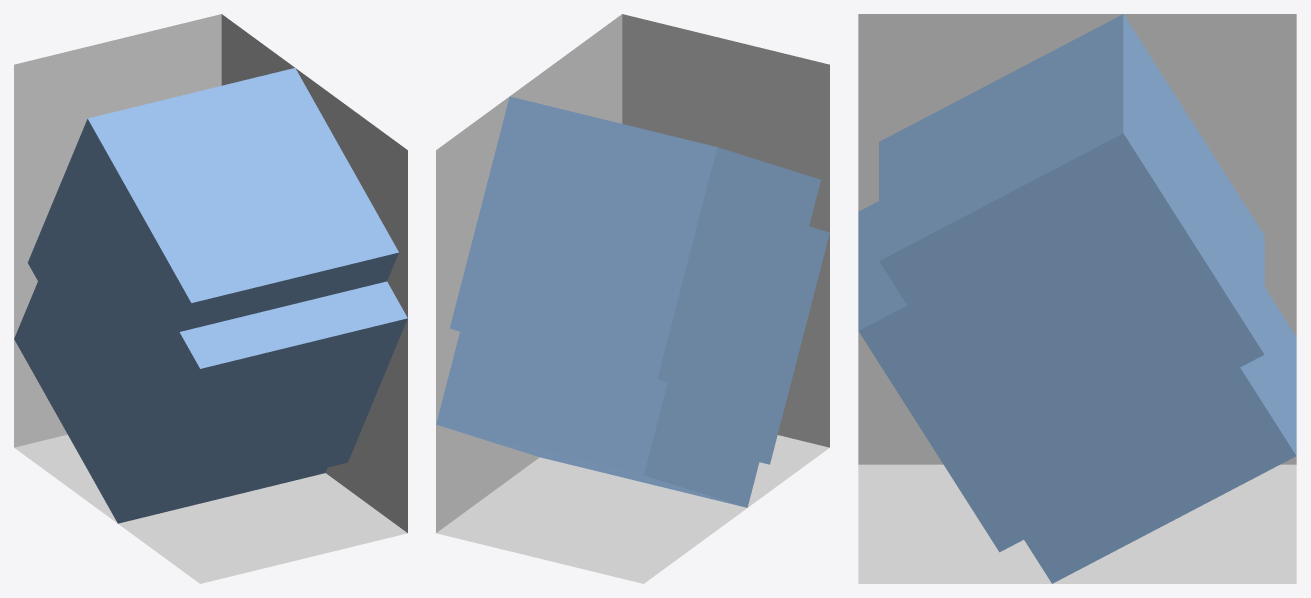
Rendered from processed_glb.glb.
3 views of the same model, side by side, from view 1: azimuth 30°, elevation 25°; view 2: azimuth 150°, elevation 25°; view 3: azimuth 270°, elevation 25° (orthographic). The views are drawn at different scales.
Visible parts, largest first — view 1: SM_test_blender_tank_barrel_LOD0, COL_test_blender_tank, SM_test_blender_tank_turret_LOD0, SM_test_blender_tank_hull_LOD0; view 2: SM_test_blender_tank_barrel_LOD0, COL_test_blender_tank, SM_test_blender_tank_hull_LOD0, SM_test_blender_tank_turret_LOD0; view 3: SM_test_blender_tank_barrel_LOD0, COL_test_blender_tank, SM_test_blender_tank_hull_LOD0, SM_test_blender_tank_turret_LOD0.
Part boxes in pixels (x1,y1,x2,y2): SM_test_blender_tank_barrel_LOD0: (27, 68, 398, 442); COL_test_blender_tank: (14, 14, 407, 583); SM_test_blender_tank_turret_LOD0: (36, 184, 407, 513); SM_test_blender_tank_hull_LOD0: (14, 282, 327, 523); SM_test_blender_tank_barrel_LOD0: (449, 96, 820, 411); COL_test_blender_tank: (436, 14, 829, 583); SM_test_blender_tank_hull_LOD0: (436, 243, 807, 507); SM_test_blender_tank_turret_LOD0: (666, 226, 829, 464); SM_test_blender_tank_barrel_LOD0: (879, 14, 1264, 481); COL_test_blender_tank: (858, 14, 1296, 583); SM_test_blender_tank_hull_LOD0: (911, 235, 1296, 583); SM_test_blender_tank_turret_LOD0: (858, 201, 1242, 552).
Size of what is drawn, in the model's own units: 1 by 1.76 by 1.55.
